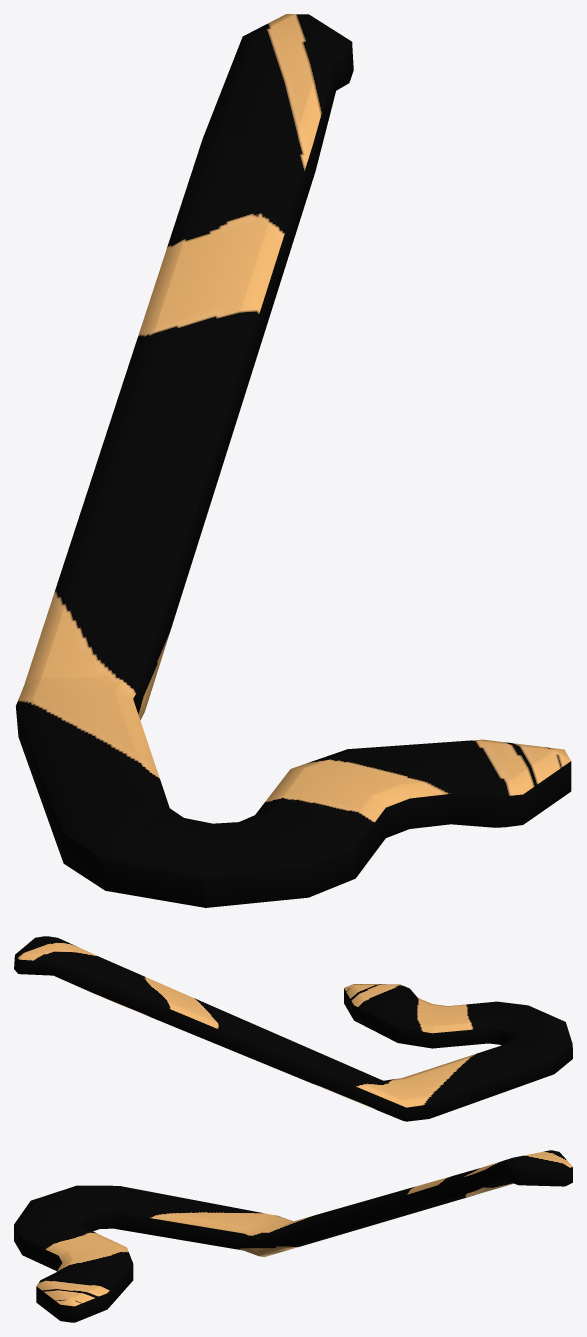
Rendered from TopPath.fbx.
3 renders of one model, top to bottom at view 1: azimuth 30°, elevation 25°; view 2: azimuth 150°, elevation 25°; view 3: azimuth 270°, elevation 25°, orthographic. The views are drawn at different scales.
Visible parts, largest first — view 1: Cube.001; view 2: Cube.001; view 3: Cube.001.
Part boxes in pixels (x1,y1,x2,y2): Cube.001: (15, 14, 571, 907); Cube.001: (14, 936, 572, 1121); Cube.001: (14, 1150, 572, 1322).
Size of the model in its own units: 1916 by 1108 by 2597.
